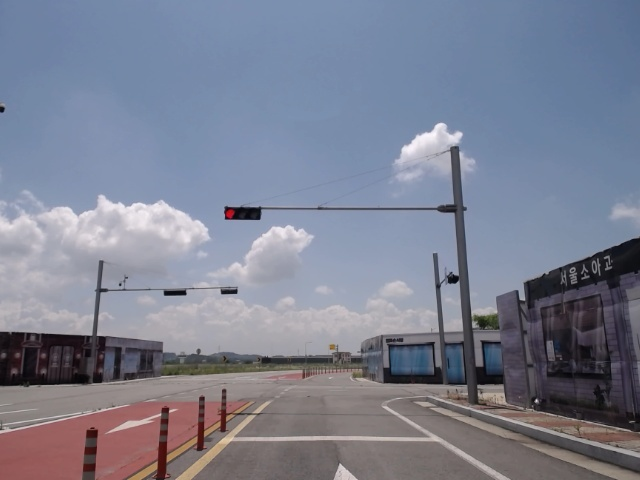red_3: (224, 207, 261, 222)
